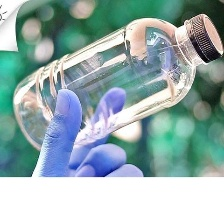bottle: (10, 10, 224, 157)
